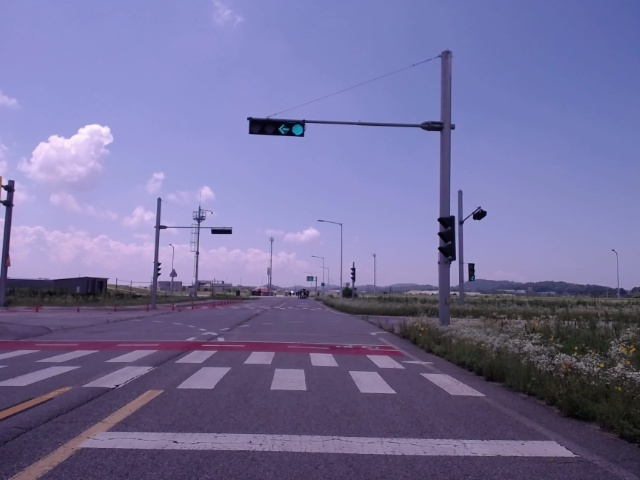all_green_4: (248, 115, 306, 138)
